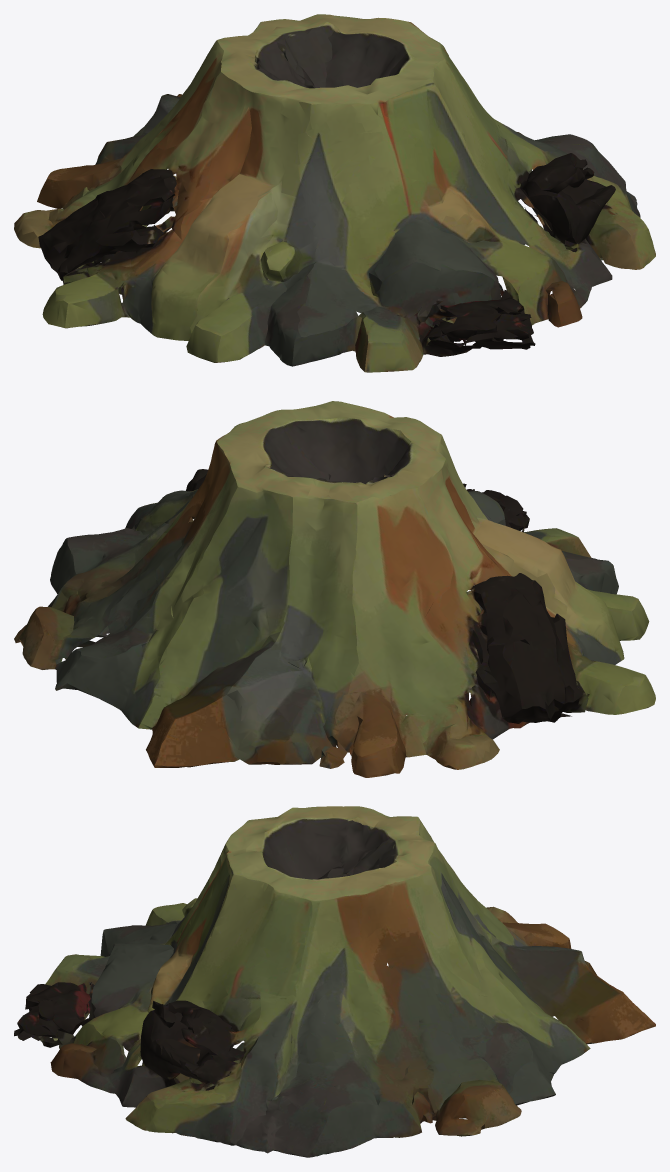
File: ash_pile.glb
The picture shows the model from 3 angles, top to bottom: view 1: azimuth 30°, elevation 25°; view 2: azimuth 150°, elevation 25°; view 3: azimuth 270°, elevation 25°; orthographic projection. The views are drawn at different scales.
Parts seen in each view (by area): view 1: ash_pile; view 2: ash_pile; view 3: ash_pile.
Part boxes in pixels (bbox=[...]): ash_pile: bbox=[14, 14, 655, 372]; ash_pile: bbox=[14, 401, 655, 777]; ash_pile: bbox=[14, 806, 655, 1157].
Size of the model in its own units: 1.2 by 0.3743 by 1.2.
Materials: 1 (1 with a texture image).
